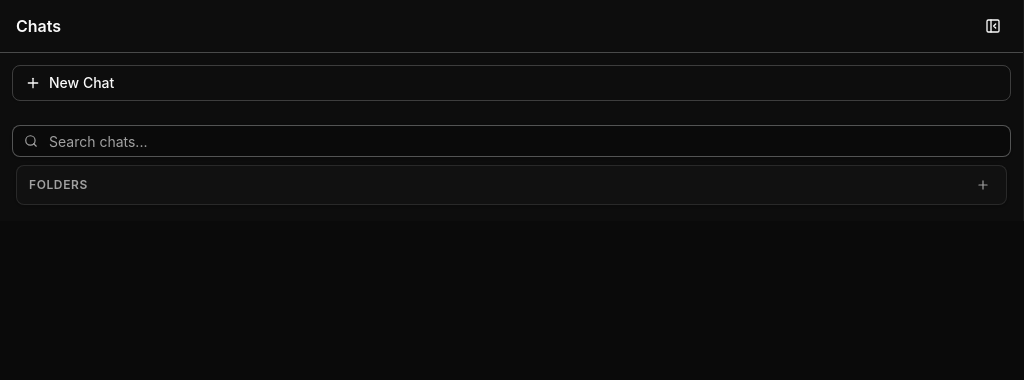
Test: SessionList › Search › should show clear button when search has value
Type "test" into the search field with placeholder "Search chats..." at (512, 141), box [12,125,1011,157]
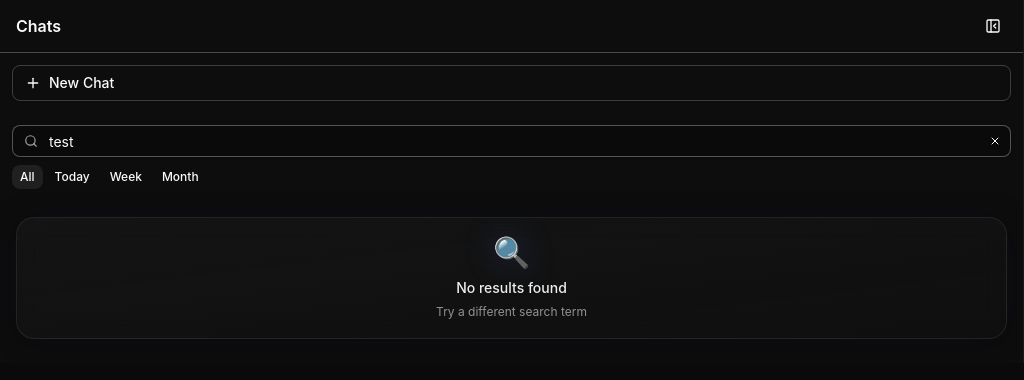
Expected: the button named "common.clear" is shown, [987,133,1003,149]
